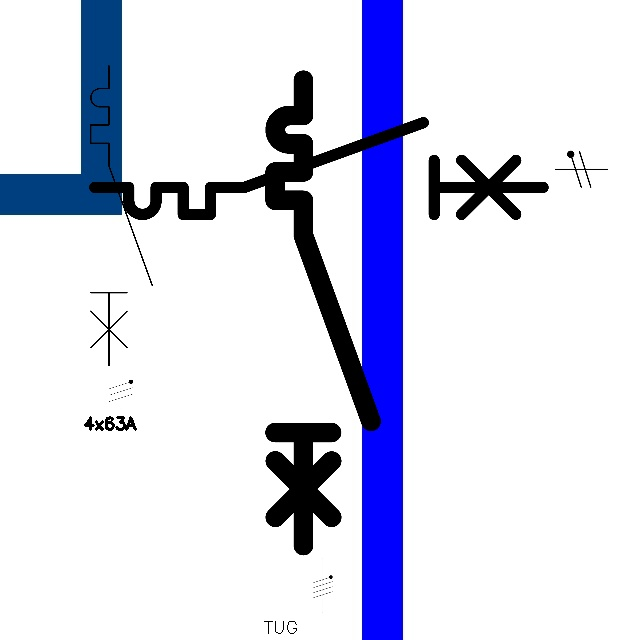interruptor_termomagnetico: (263, 68, 383, 557), (83, 111, 555, 226), (83, 58, 160, 373)
